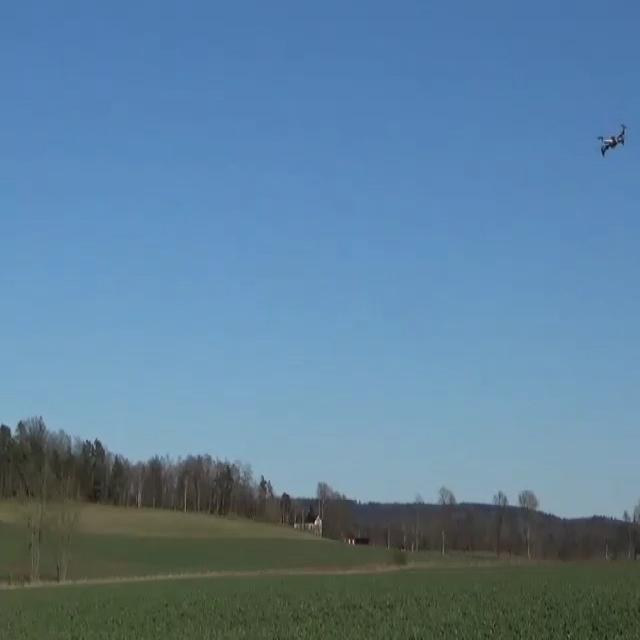drone: (596, 122, 626, 156)
